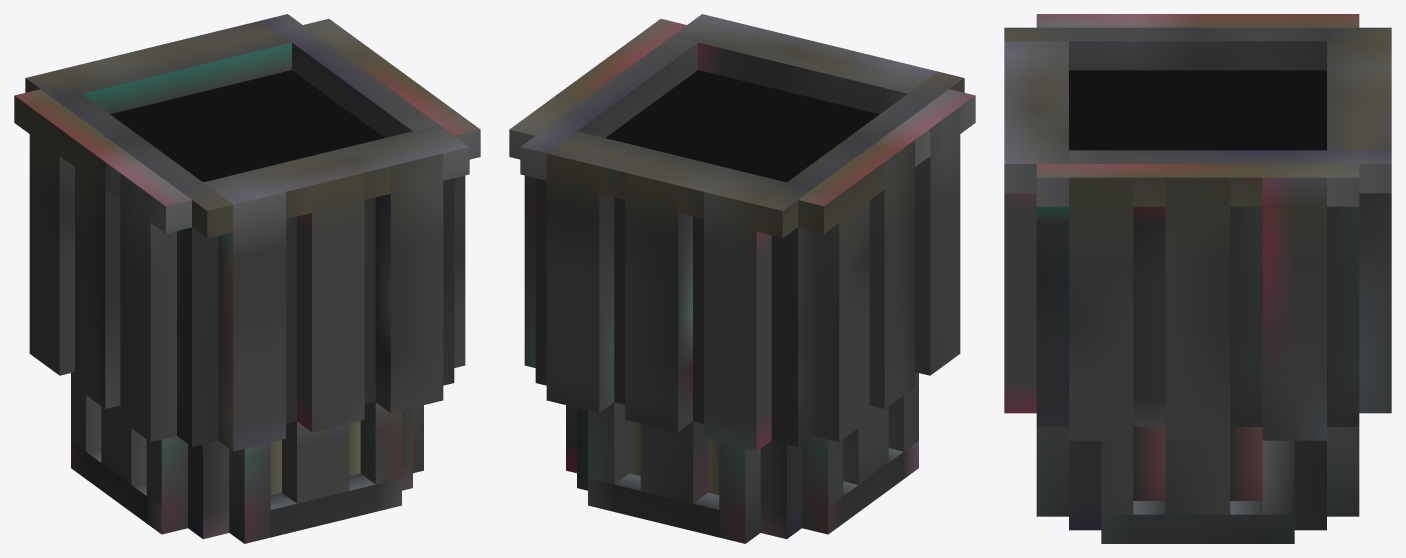
File: TrashBin_00.fbx
3 views of the same model, side by side, from view 1: azimuth 30°, elevation 25°; view 2: azimuth 150°, elevation 25°; view 3: azimuth 270°, elevation 25° (orthographic). The views are drawn at different scales.
Parts seen in each view (by area): view 1: TrashBin_00; view 2: TrashBin_00; view 3: TrashBin_00.
Part boxes in pixels (bbox=[...]): TrashBin_00: bbox=[14, 14, 480, 543]; TrashBin_00: bbox=[509, 14, 975, 543]; TrashBin_00: bbox=[1004, 14, 1391, 543].
Bounding box in the file's own units: 60 × 65 × 60.
